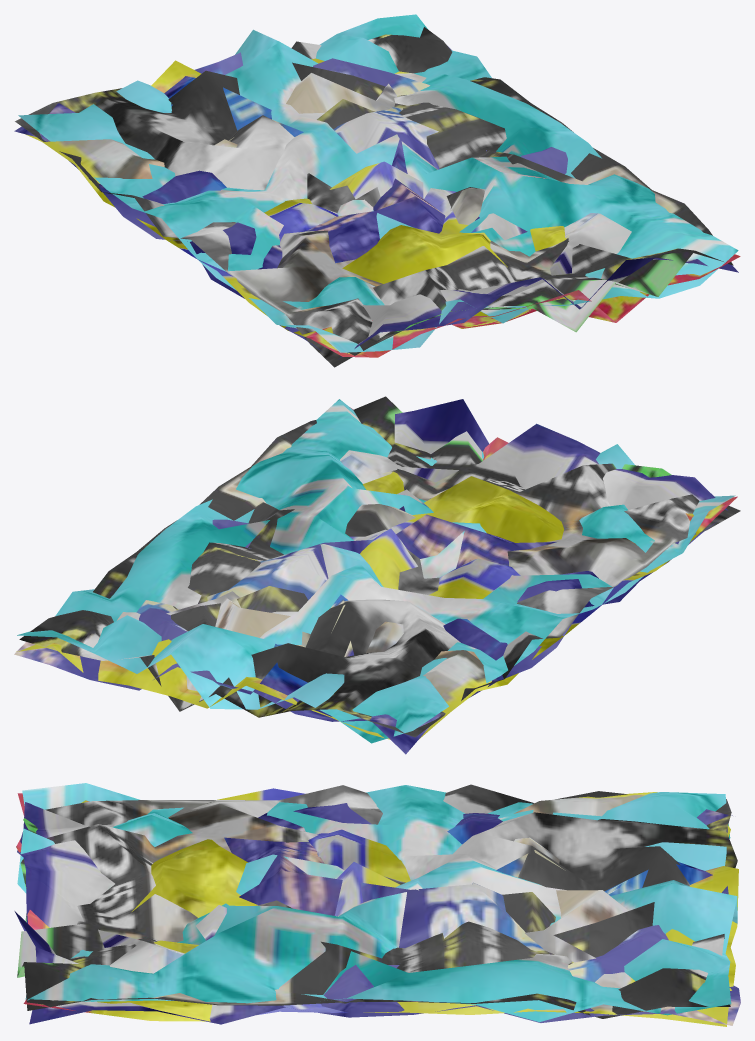
Rendered from trash_paper.fbx.
3 renders of one model, top to bottom at view 1: azimuth 30°, elevation 25°; view 2: azimuth 150°, elevation 25°; view 3: azimuth 270°, elevation 25°, orthographic. The views are drawn at different scales.
Parts seen in each view (by area): view 1: trash_paper_004, trash_paper_002, trash_paper_001, trash_paper_003; view 2: trash_paper_004, trash_paper_002, trash_paper_001, trash_paper_003; view 3: trash_paper_004, trash_paper_002, trash_paper_001, trash_paper_003.
Boxes of the visible parts, left/top/right/bottom form: trash_paper_004: left=18, top=14, right=738, bottom=352; trash_paper_002: left=15, top=27, right=733, bottom=367; trash_paper_001: left=14, top=45, right=738, bottom=359; trash_paper_003: left=25, top=58, right=740, bottom=357; trash_paper_004: left=17, top=399, right=735, bottom=743; trash_paper_002: left=19, top=396, right=740, bottom=737; trash_paper_001: left=14, top=399, right=727, bottom=754; trash_paper_003: left=16, top=407, right=737, bottom=739; trash_paper_004: left=17, top=783, right=737, bottom=1022; trash_paper_002: left=17, top=784, right=737, bottom=1018; trash_paper_001: left=14, top=802, right=740, bottom=1025; trash_paper_003: left=16, top=788, right=738, bottom=1026.
Bounding box in the file's own units: 21.3 × 29.95 × 3.75.
